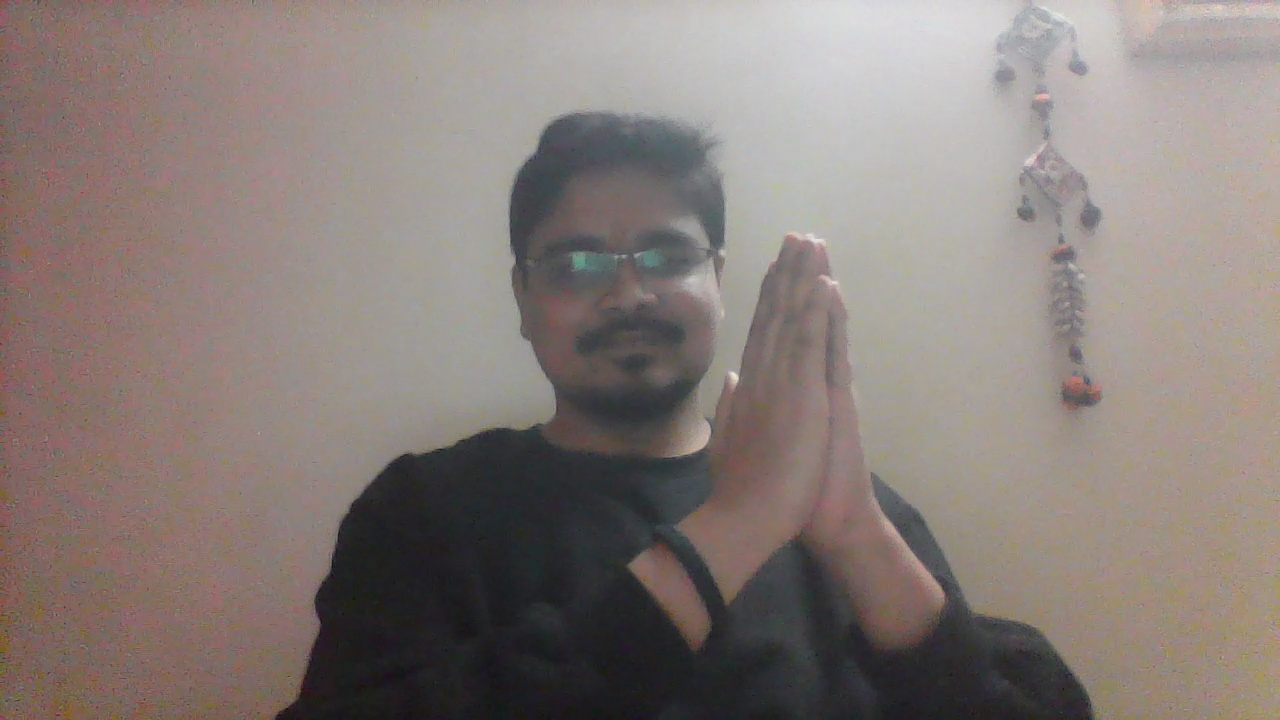Namaste: (708, 232, 906, 616)
